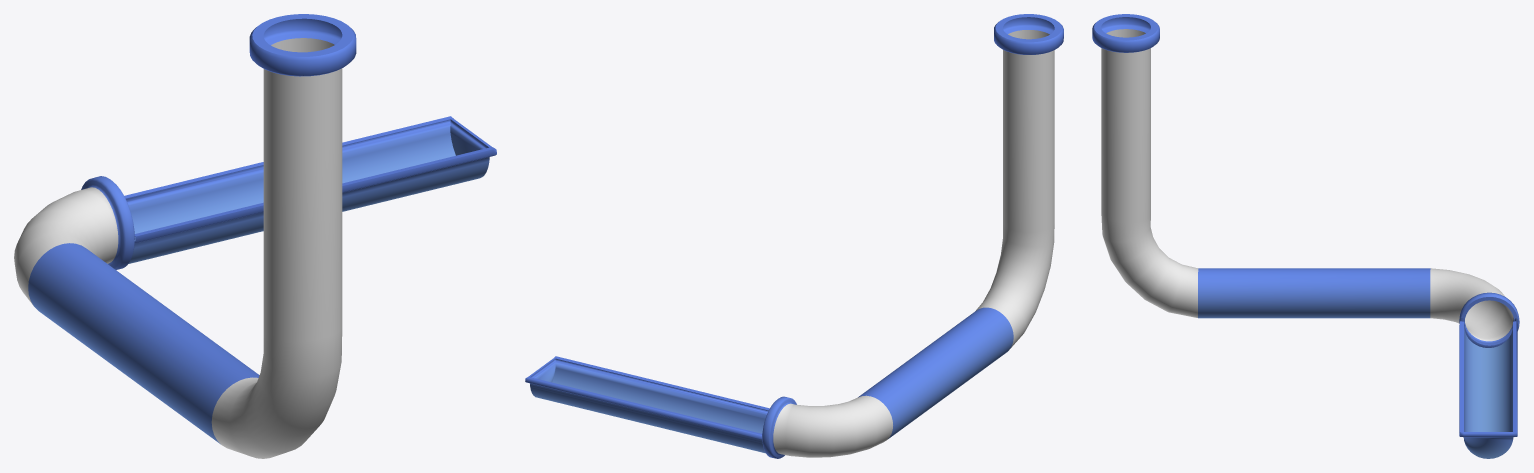
3 views of the same model, side by side, from view 1: azimuth 30°, elevation 25°; view 2: azimuth 150°, elevation 25°; view 3: azimuth 270°, elevation 25° (orthographic). The views are drawn at different scales.
Parts seen in each view (by area): view 1: Tube, Tube_Part, Tube_Upper; view 2: Tube, Tube_Part, Tube_Upper; view 3: Tube, Tube_Part, Tube_Upper.
Boxes of the visible parts, x1,y1,x2,y2 form: Tube: (14,116,496,458); Tube_Part: (263,38,342,153); Tube_Upper: (249,14,356,76); Tube: (525,96,1054,458); Tube_Part: (1003,30,1054,105); Tube_Upper: (994,14,1063,54); Tube: (1101,93,1519,458); Tube_Part: (1101,29,1150,101); Tube_Upper: (1092,14,1159,52).
Bounding box in the file's own units: 13.2 × 11.62 × 15.32.
